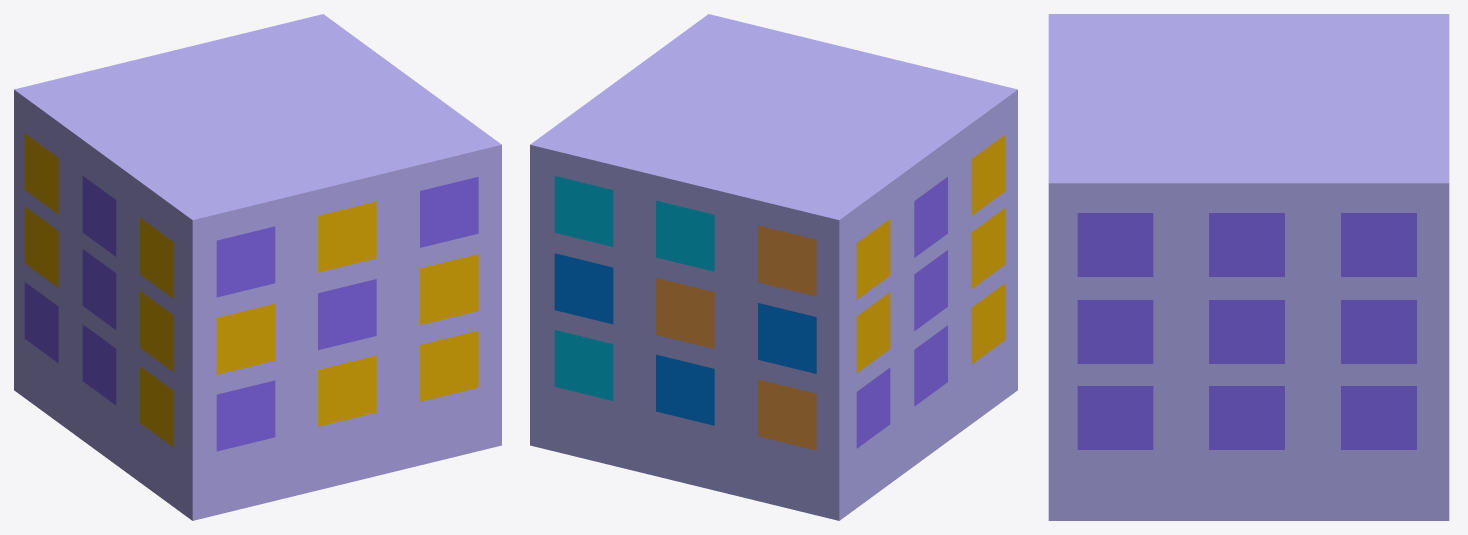
Rendered from Building_09.fbx.
The picture shows the model from 3 angles, left to right: view 1: azimuth 30°, elevation 25°; view 2: azimuth 150°, elevation 25°; view 3: azimuth 270°, elevation 25°; orthographic projection. The views are drawn at different scales.
Visible parts, largest first — view 1: Building_09; view 2: Building_09; view 3: Building_09.
Boxes of the visible parts, x1,y1,x2,y2 form: Building_09: (14,14,501,520); Building_09: (530,14,1017,520); Building_09: (1048,14,1449,520).
Bounding box in the file's own units: 27.03 × 24.49 × 26.76.
